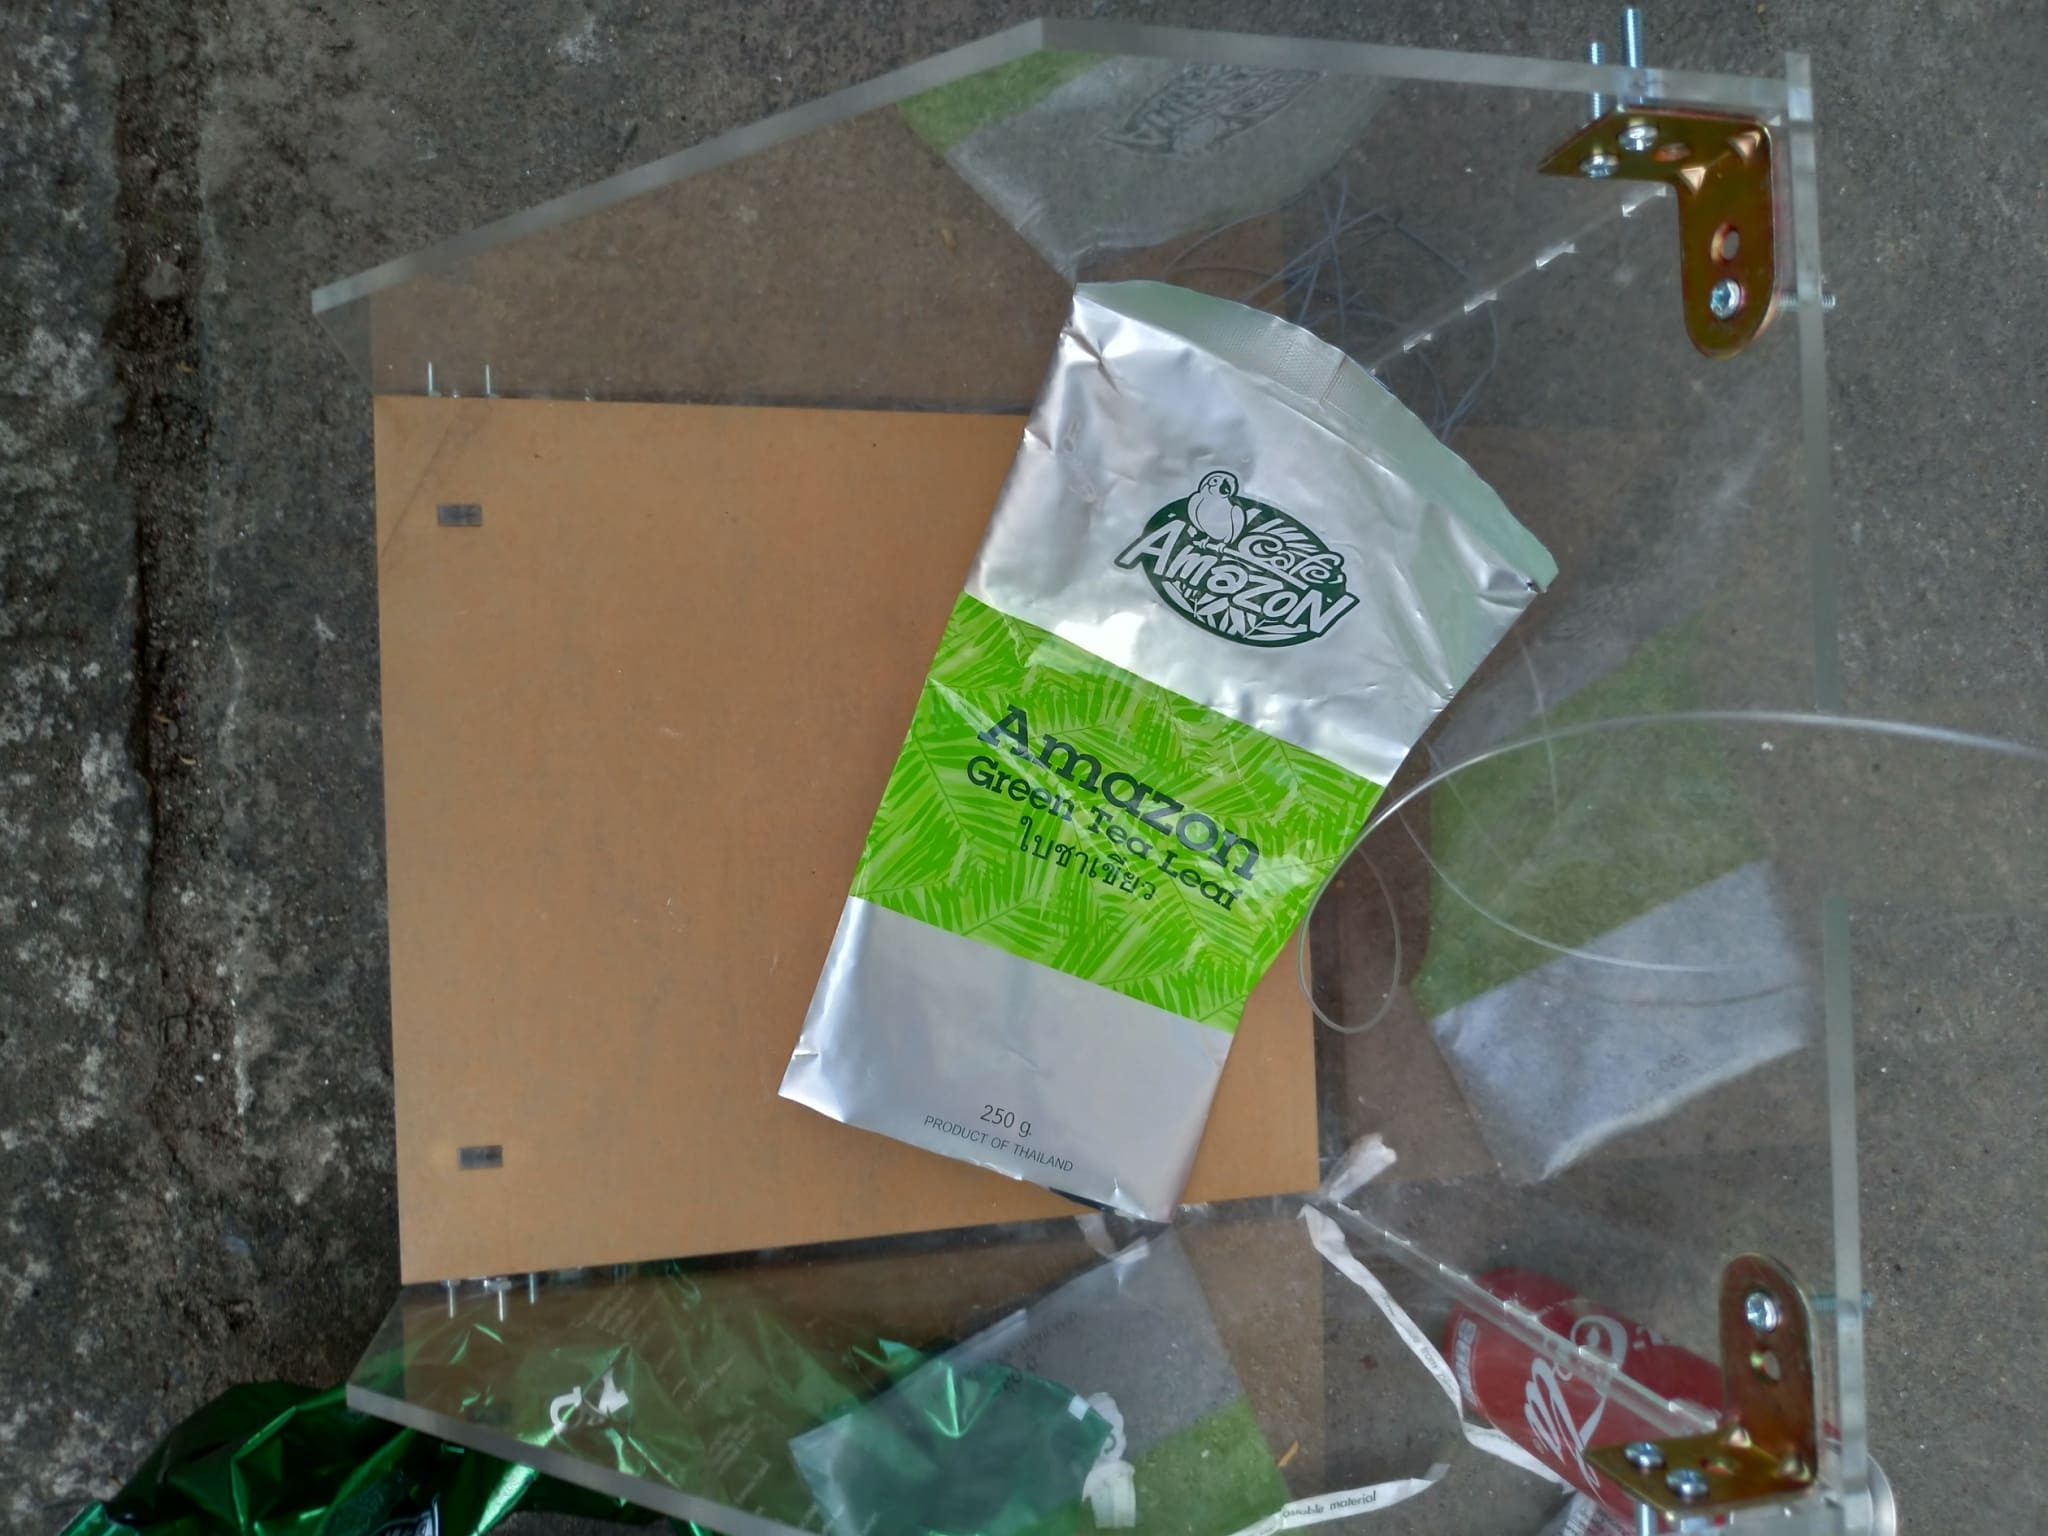AlCan: (1430, 1262, 1866, 1536)
Others: (774, 263, 1559, 1228), (89, 1265, 1229, 1536)
